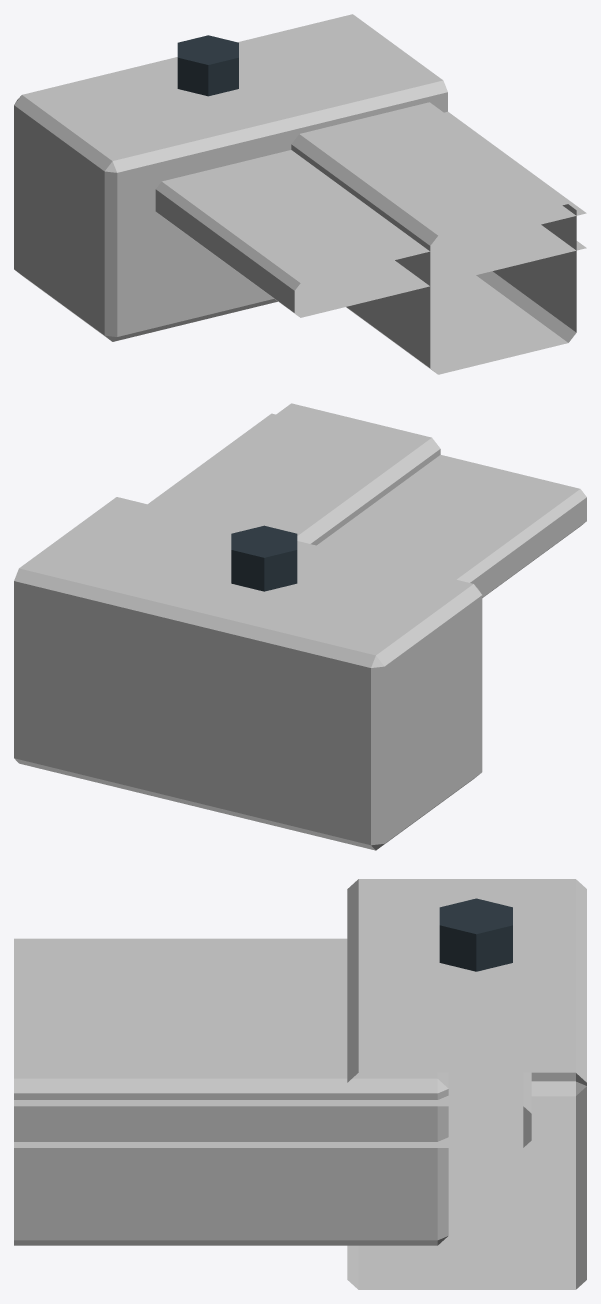
Rendered from cell_0.obj.
The picture shows the model from 3 angles, top to bottom: view 1: azimuth 30°, elevation 25°; view 2: azimuth 150°, elevation 25°; view 3: azimuth 270°, elevation 25°; orthographic projection. The views are drawn at different scales.
Size of the model in its own units: 0.674 by 0.4192 by 0.8225.
